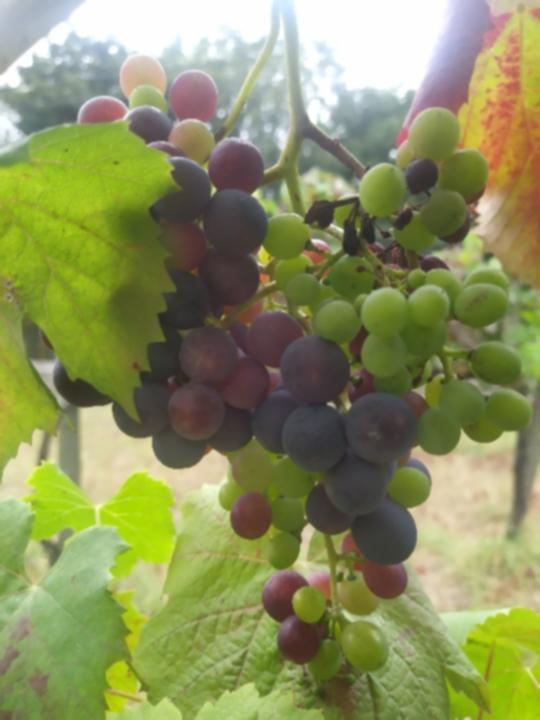grape: (37, 50, 535, 685)
